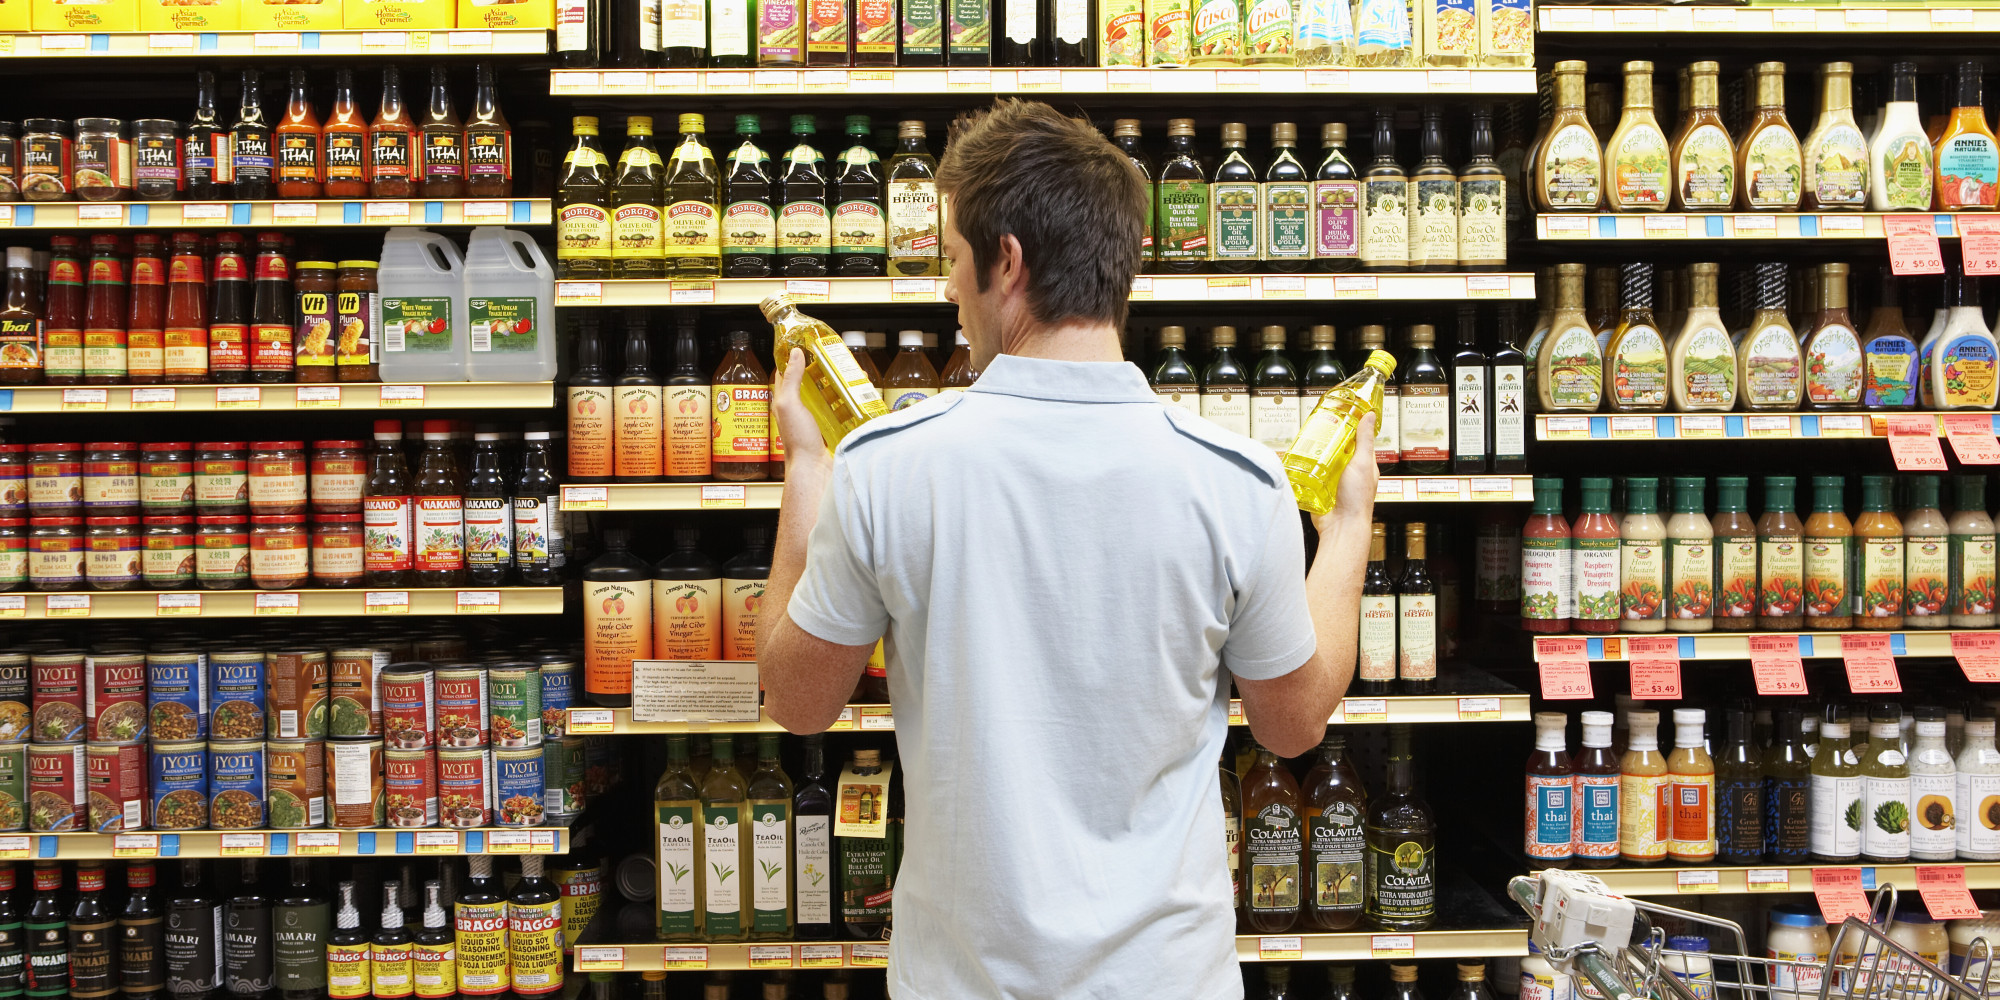Age_20_30: (944, 133, 1167, 367)
E_White: (944, 133, 1167, 367)
Emotion_Neutral: (944, 133, 1167, 367)
G_Male: (944, 133, 1167, 367)
